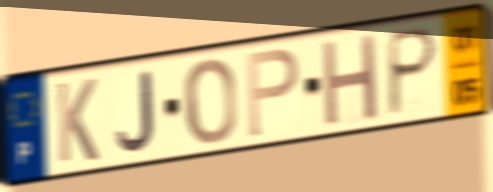H: (320, 30, 381, 131)
J: (113, 68, 158, 155)
K: (53, 76, 101, 166)
O: (181, 56, 239, 148)
P: (244, 45, 302, 141), (385, 24, 441, 120)
